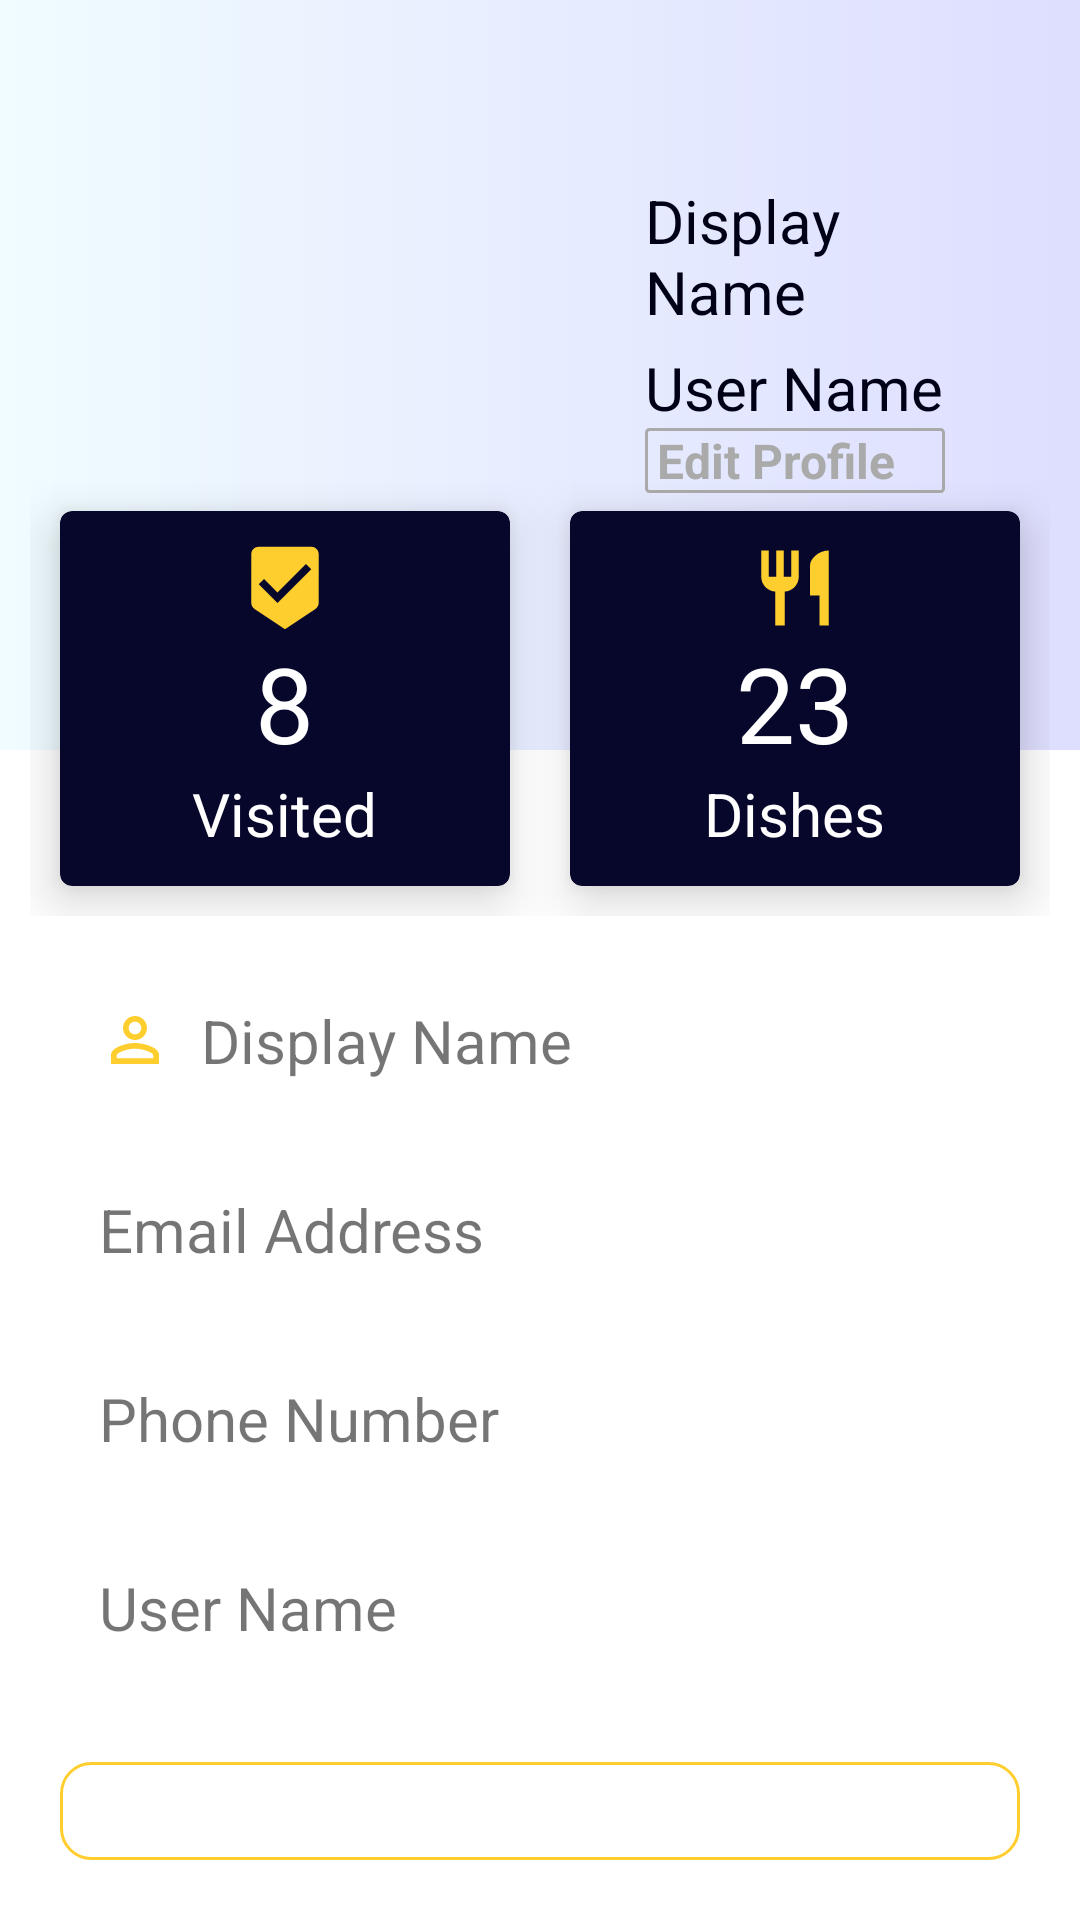

Named icons in this screenshot (1080*1920) and their bounding boxes, {"left": x1, "top": y1, "right": x2, "bottom": y2}:
beenhere: {"left": 251, "top": 546, "right": 319, "bottom": 629}
restaurant: {"left": 761, "top": 550, "right": 829, "bottom": 626}
